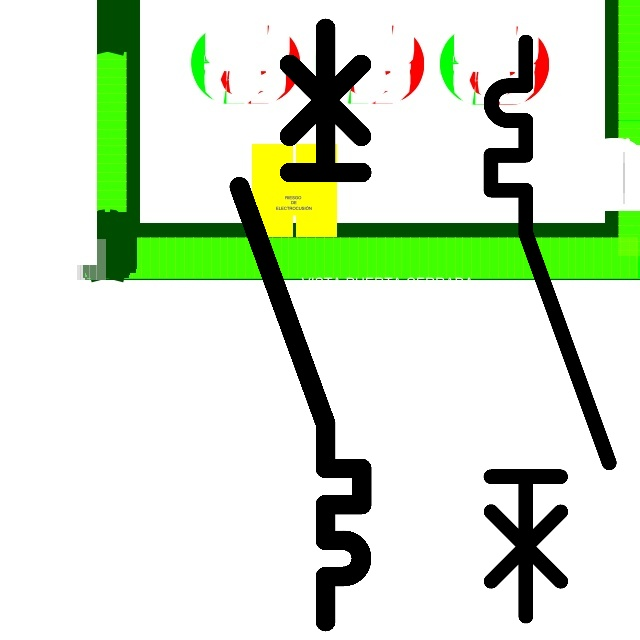interruptor_termomagnetico: (224, 13, 377, 637), (476, 27, 624, 631)
